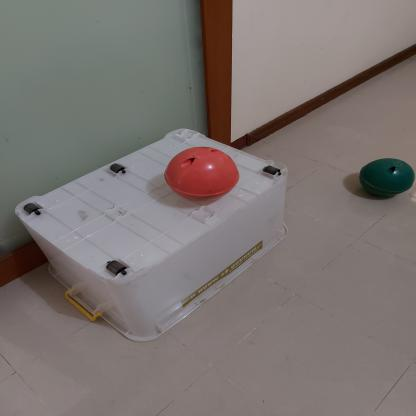green_buoy: (357, 157, 416, 198)
red_buoy: (162, 144, 242, 203)
